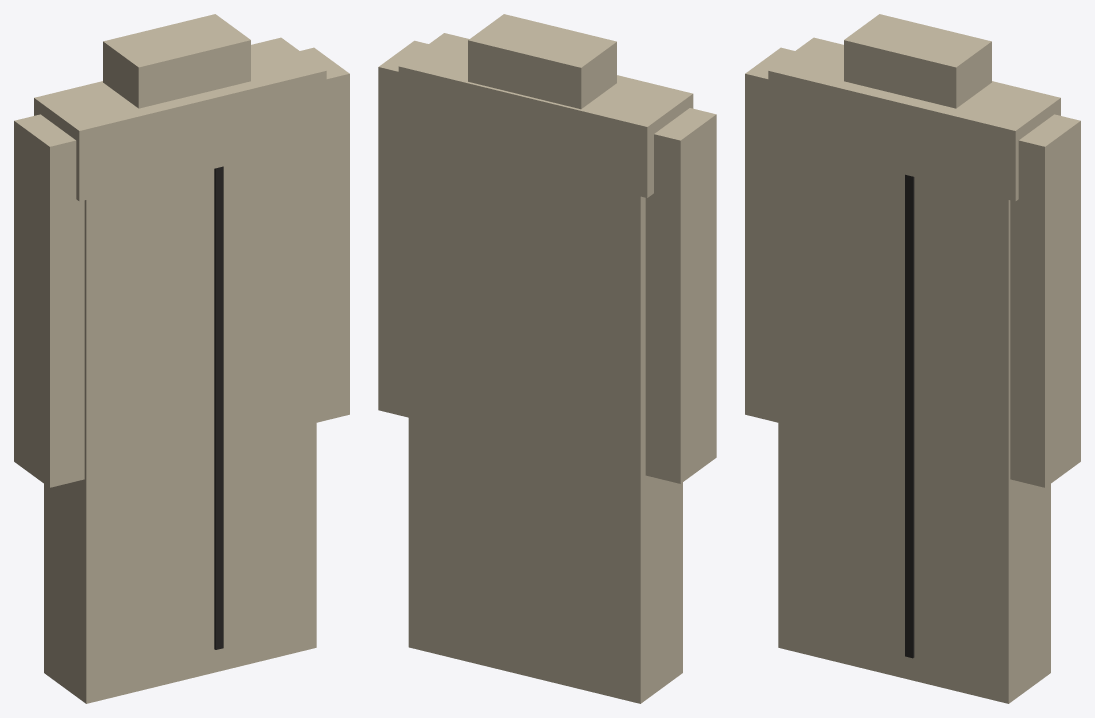
File: wool-coat-hung.glb
The picture shows the model from 3 angles, left to right: view 1: azimuth 30°, elevation 25°; view 2: azimuth 150°, elevation 25°; view 3: azimuth 330°, elevation 25°; orthographic projection.
Visible parts, largest first — view 1: paper, plastic-dark; view 2: paper; view 3: paper, plastic-dark.
Part boxes in pixels (<box>): paper: <box>14,14,349,703</box>; plastic-dark: <box>214,166,223,649</box>; paper: <box>378,14,716,703</box>; paper: <box>745,14,1080,703</box>; plastic-dark: <box>905,174,914,658</box>.
Size of the model in its own units: 0.534 by 1.05 by 0.14.
